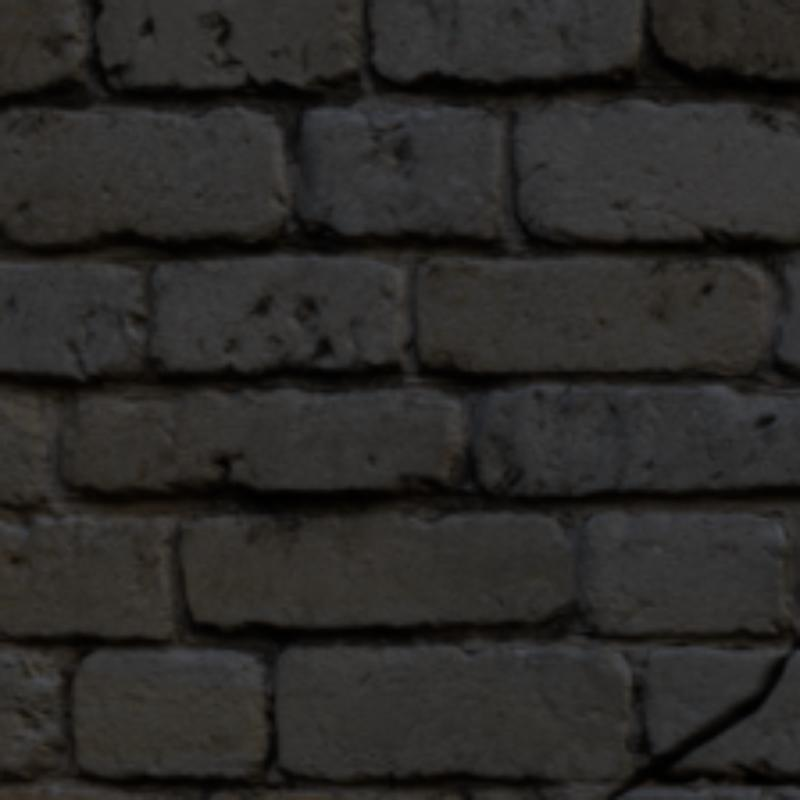pothole: (604, 632, 796, 796)
